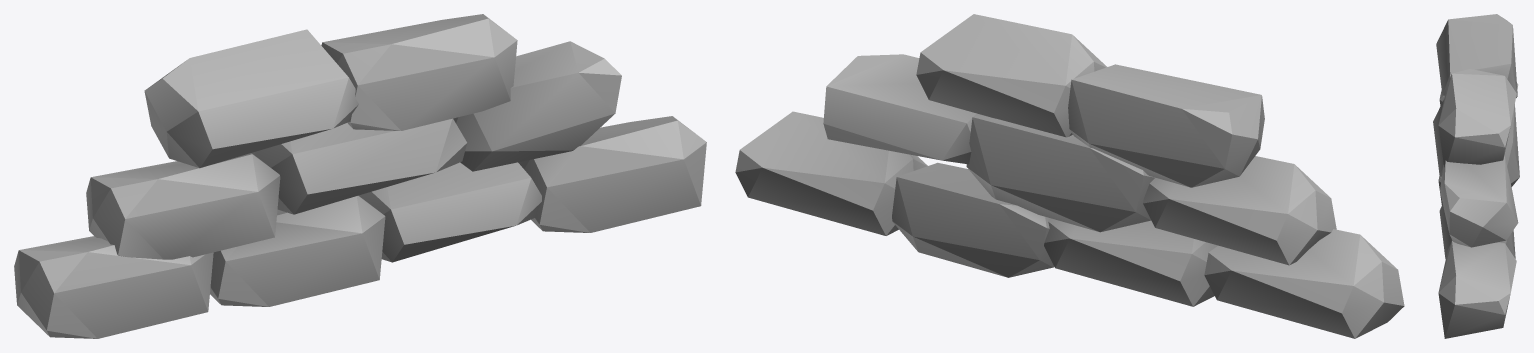
Rendered from stone_fence_002.glb.
The picture shows the model from 3 angles, left to right: view 1: azimuth 30°, elevation 25°; view 2: azimuth 150°, elevation 25°; view 3: azimuth 270°, elevation 25°; orthographic projection. The views are drawn at different scales.
Parts seen in each view (by area): view 1: stone_fence_002; view 2: stone_fence_002; view 3: stone_fence_002.
Part boxes in pixels (x1,y1,x2,y2): stone_fence_002: (14,14,706,338); stone_fence_002: (735,14,1404,338); stone_fence_002: (1433,14,1519,338).
Bounding box in the file's own units: 2.1 × 0.7105 × 0.3412.
1 material, 1 textured.
